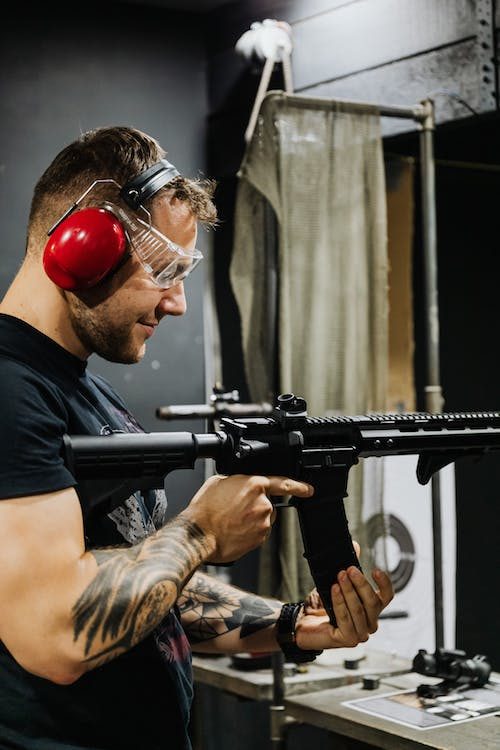gun: (58, 384, 500, 630)
